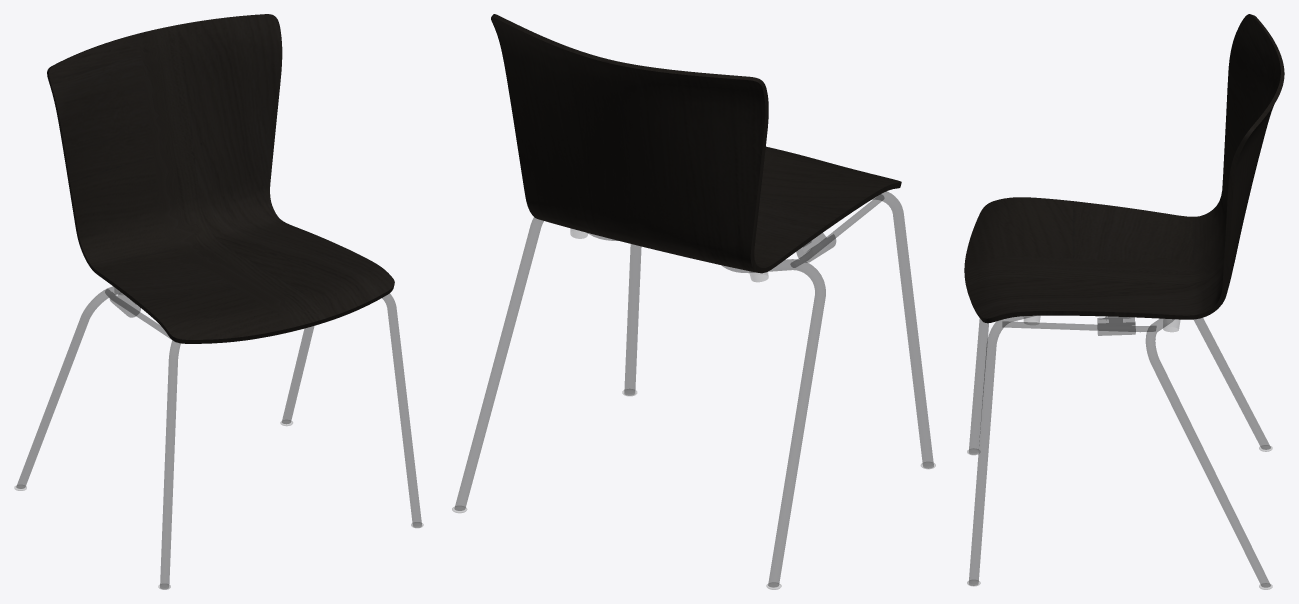
The model's file is Chair3.glb.
The picture shows the model from 3 angles, left to right: view 1: azimuth 30°, elevation 25°; view 2: azimuth 150°, elevation 25°; view 3: azimuth 270°, elevation 25°; orthographic projection. The views are drawn at different scales.
Visible parts, largest first — view 1: Furniture_Office-Chairs_Fritz-Hansen_VICO-DUOT-NotUph-VM112; view 2: Furniture_Office-Chairs_Fritz-Hansen_VICO-DUOT-NotUph-VM112; view 3: Furniture_Office-Chairs_Fritz-Hansen_VICO-DUOT-NotUph-VM112.
Boxes of the visible parts, left/top/right/bottom form: Furniture_Office-Chairs_Fritz-Hansen_VICO-DUOT-NotUph-VM112: left=14, top=14, right=423, bottom=589; Furniture_Office-Chairs_Fritz-Hansen_VICO-DUOT-NotUph-VM112: left=452, top=14, right=935, bottom=589; Furniture_Office-Chairs_Fritz-Hansen_VICO-DUOT-NotUph-VM112: left=964, top=14, right=1284, bottom=589.
Bounding box in the file's own units: 5.47 × 7.93 × 5.14.
3 materials, 1 textured.
